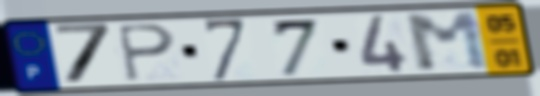4: (357, 13, 411, 76)
7: (51, 22, 116, 88), (267, 18, 325, 78), (202, 17, 252, 84)
M: (400, 9, 495, 75)
P: (114, 22, 179, 84)
